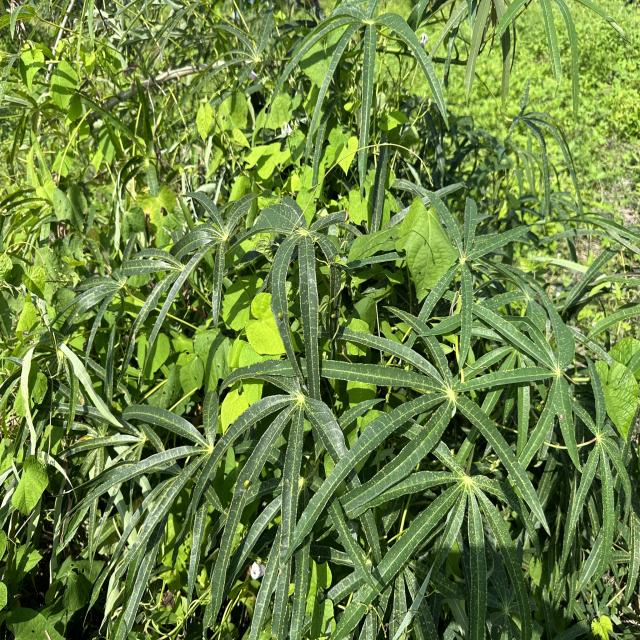Maleza: (0, 0, 138, 233), (199, 91, 323, 218), (585, 23, 640, 196), (220, 275, 290, 363), (394, 190, 447, 296), (167, 325, 233, 391)
Mosca: (240, 471, 262, 497)
